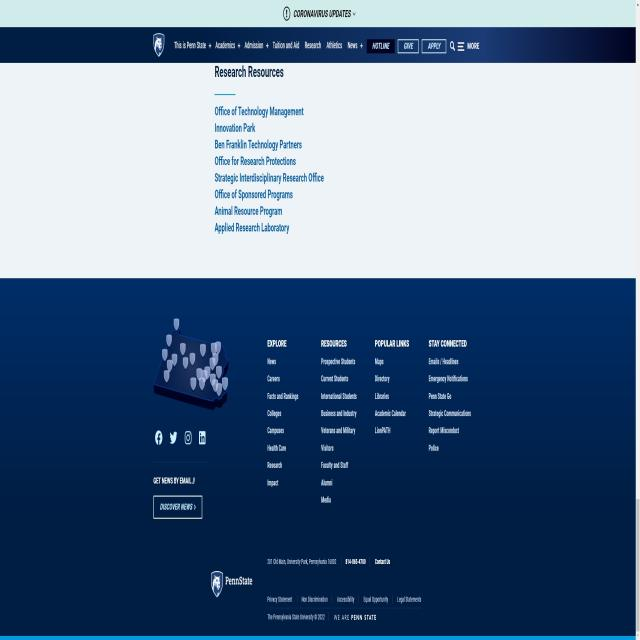menu-bar: (366, 36, 484, 55)
tab-bar: (169, 33, 364, 54)
